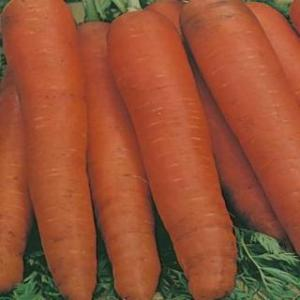carrot: (106, 6, 236, 300), (178, 0, 300, 260), (1, 0, 96, 300)
